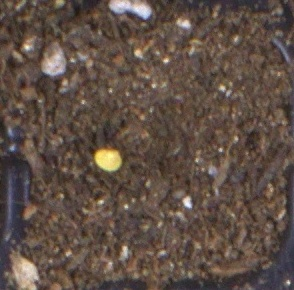chilli seed: (93, 148, 123, 172)
